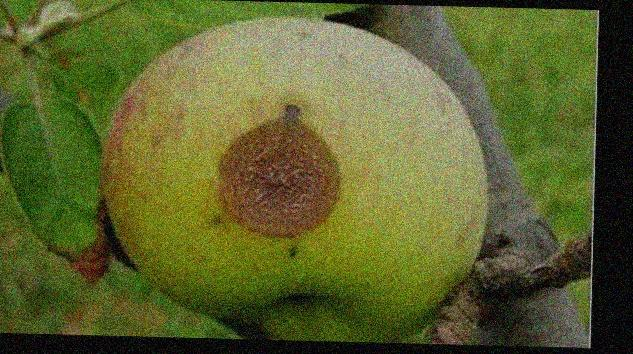rotten apple: (95, 15, 494, 338)
